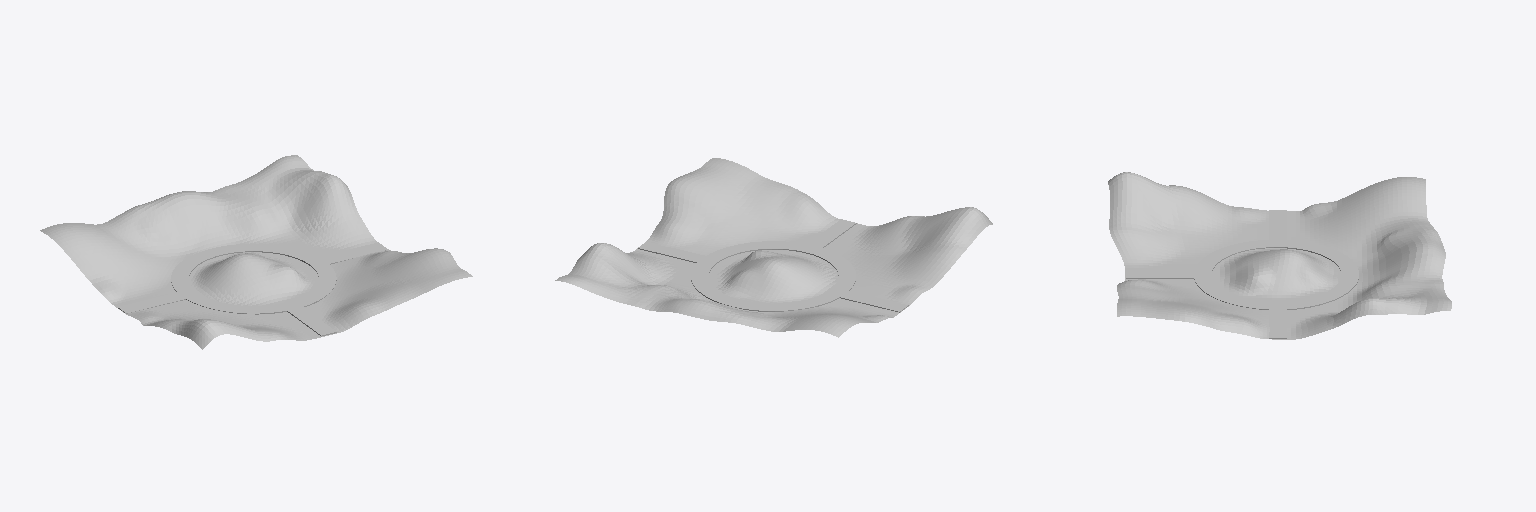
Rendered from hub_01.obj.
3 views of the same model, side by side, from view 1: azimuth 30°, elevation 25°; view 2: azimuth 150°, elevation 25°; view 3: azimuth 270°, elevation 25° (orthographic).
Parts seen in each view (by area): view 1: Plane, Cube.003; view 2: Plane, Cube.003; view 3: Plane, Cube.003.
Boxes of the visible parts, x1=… form: Plane: x1=40, y1=155, x2=472, y2=349; Cube.003: x1=118, y1=243, x2=388, y2=336; Plane: x1=555, y1=158, x2=992, y2=337; Cube.003: x1=638, y1=219, x2=908, y2=312; Plane: x1=1108, y1=172, x2=1451, y2=339; Cube.003: x1=1126, y1=210, x2=1358, y2=338.
Size of the model in its own units: 110 by 15.62 by 113.